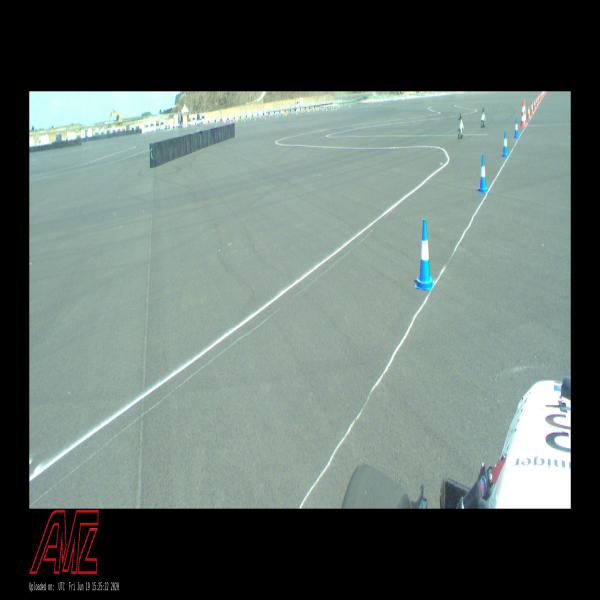blue_cone: (415, 219, 434, 290), (478, 156, 488, 192), (502, 131, 509, 157), (514, 118, 519, 138)
large_orange_cone: (520, 102, 526, 126), (522, 100, 526, 124)
orange_cone: (528, 106, 530, 118), (531, 102, 533, 113), (534, 99, 536, 109), (536, 96, 538, 106), (538, 95, 539, 103)
